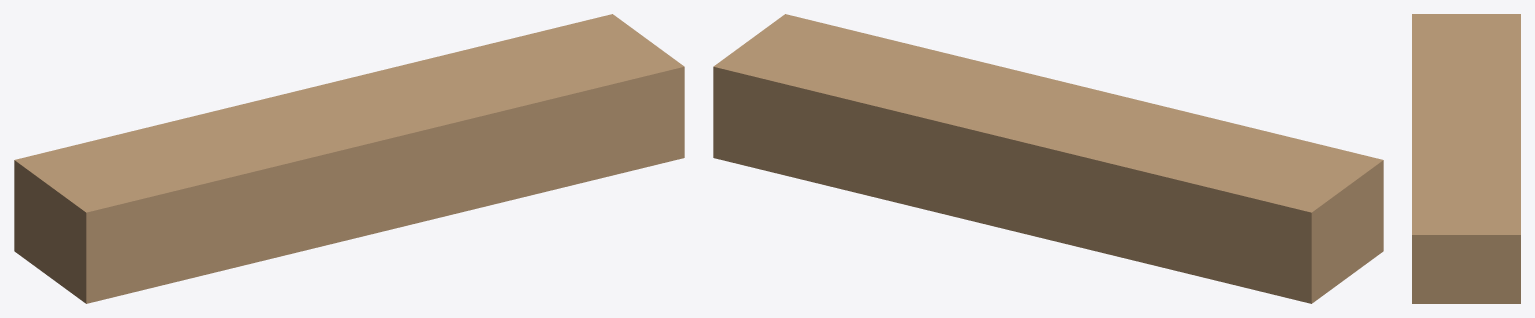
Rendered from Prop_Water_AMF_Trough_V5.glb.
3 views of the same model, side by side, from view 1: azimuth 30°, elevation 25°; view 2: azimuth 150°, elevation 25°; view 3: azimuth 270°, elevation 25° (orthographic). The views are drawn at different scales.
Visible parts, largest first — view 1: Prop_Water_AMF_Trough_V5; view 2: Prop_Water_AMF_Trough_V5; view 3: Prop_Water_AMF_Trough_V5.
Boxes of the visible parts, bbox=[...] form: Prop_Water_AMF_Trough_V5: bbox=[14, 14, 684, 303]; Prop_Water_AMF_Trough_V5: bbox=[713, 14, 1383, 303]; Prop_Water_AMF_Trough_V5: bbox=[1412, 14, 1520, 303].
Size of the model in its own units: 2.4 by 0.35 by 0.5.
